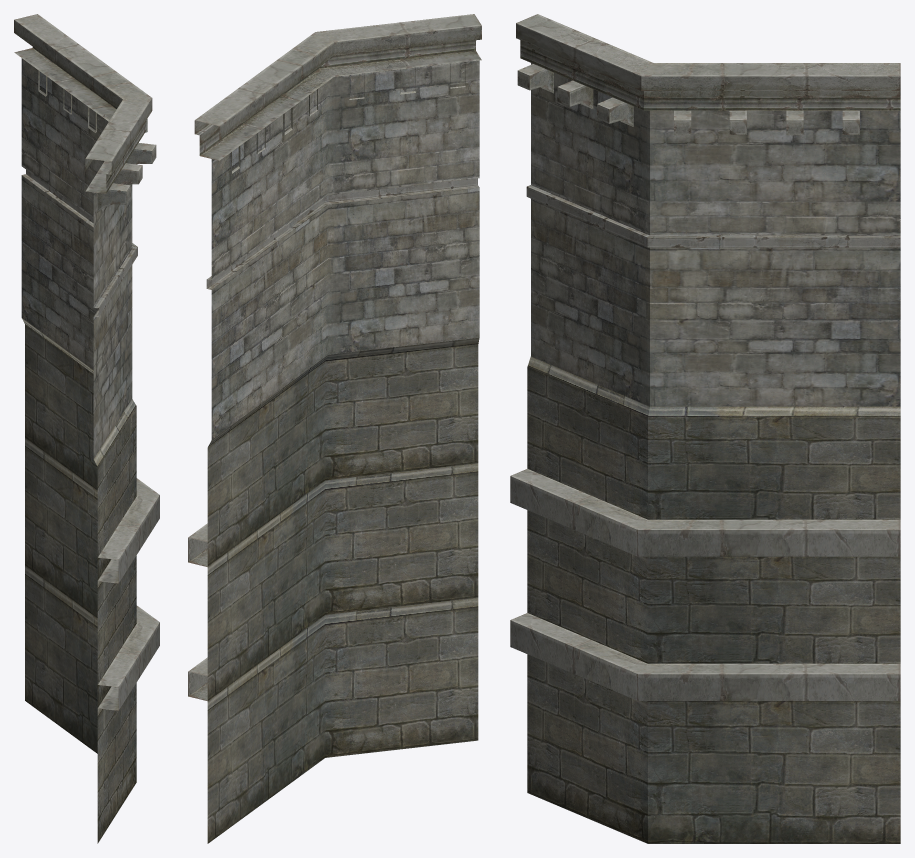
File: bg_lut_lucastle_wall03b_sm_lkj.FBX
3 views of the same model, side by side, from view 1: azimuth 30°, elevation 25°; view 2: azimuth 150°, elevation 25°; view 3: azimuth 270°, elevation 25° (orthographic). The views are drawn at different scales.
Parts seen in each view (by area): view 1: bg_lut_lucastle_wall03b_sm_lkj; view 2: bg_lut_lucastle_wall03b_sm_lkj; view 3: bg_lut_lucastle_wall03b_sm_lkj.
Boxes of the visible parts, x1=… form: bg_lut_lucastle_wall03b_sm_lkj: x1=14, y1=14, x2=159, y2=843; bg_lut_lucastle_wall03b_sm_lkj: x1=188, y1=14, x2=481, y2=843; bg_lut_lucastle_wall03b_sm_lkj: x1=510, y1=14, x2=900, y2=843.
Size of the model in its own units: 249 by 1330 by 608.
